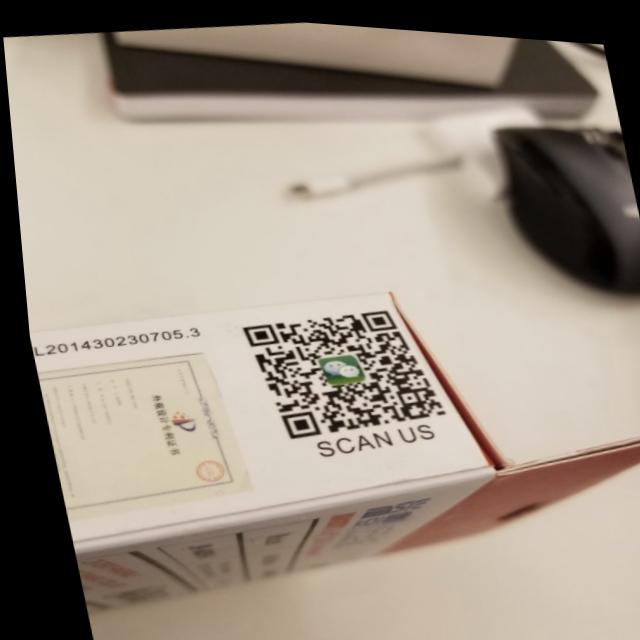QR_CODE: (220, 278, 458, 456)
